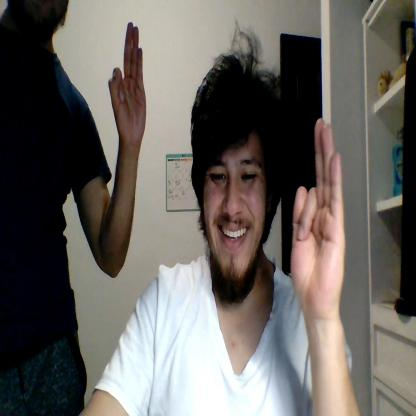F: (291, 119, 346, 309), (108, 22, 146, 144)
